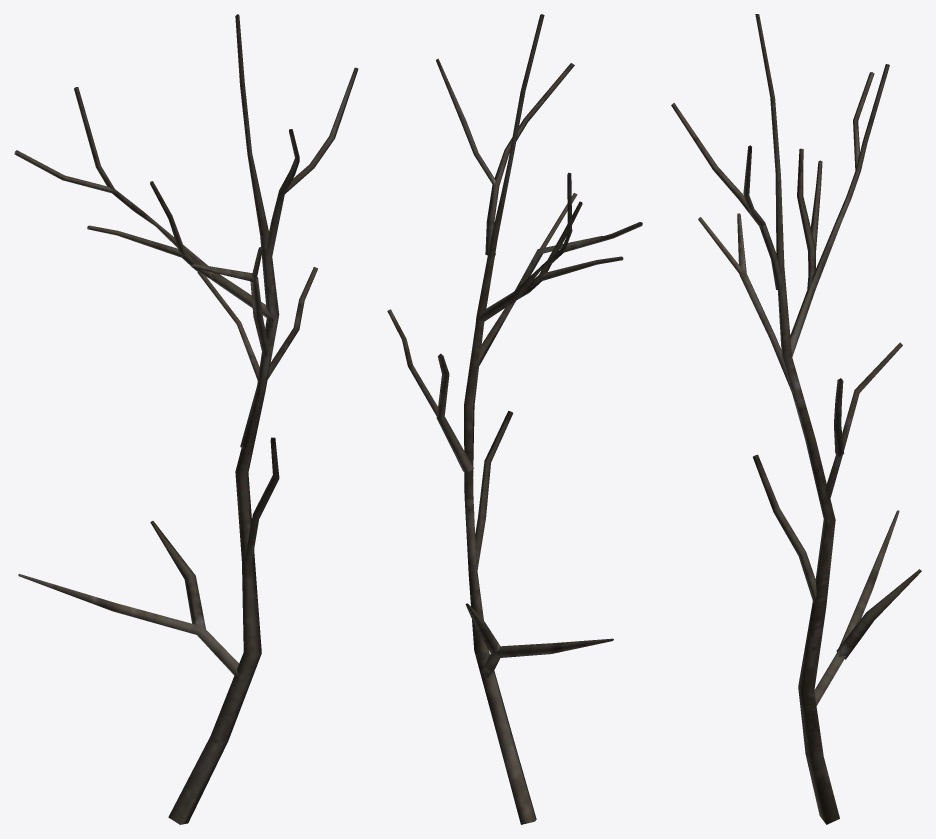
File: Bush3-4.fbx
3 views of the same model, side by side, from view 1: azimuth 30°, elevation 25°; view 2: azimuth 150°, elevation 25°; view 3: azimuth 270°, elevation 25° (orthographic). The views are drawn at different scales.
Visible parts, largest first — view 1: Bush3-4_LOD0; view 2: Bush3-4_LOD0; view 3: Bush3-4_LOD0.
Part boxes in pixels (box(x1,y1,x2,y2)): Bush3-4_LOD0: box(14, 14, 358, 824); Bush3-4_LOD0: box(387, 14, 642, 824); Bush3-4_LOD0: box(671, 14, 921, 824).
Size of what is drawn, in the model's own units: 0.766 by 0.5877 by 2.11.
